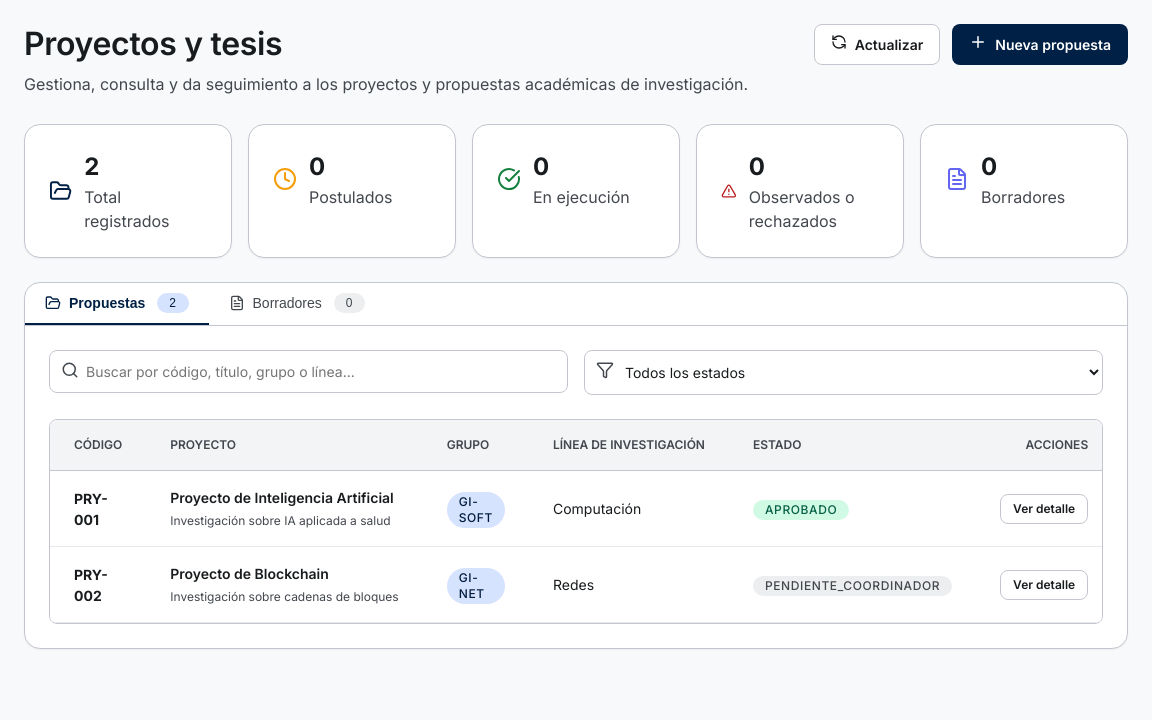
Test: ProjectsList › filters projects by search text
This screenshot has width=1152, height=720.
Check: the text "Proyecto de Inteligencia Artificial" is shown, box left=170, top=487, right=399, bottom=508
Type "Blockchain" into the field with placeholder "Buscar por código, título, grupo o línea..." at (308, 372), box left=49, top=350, right=568, bottom=393
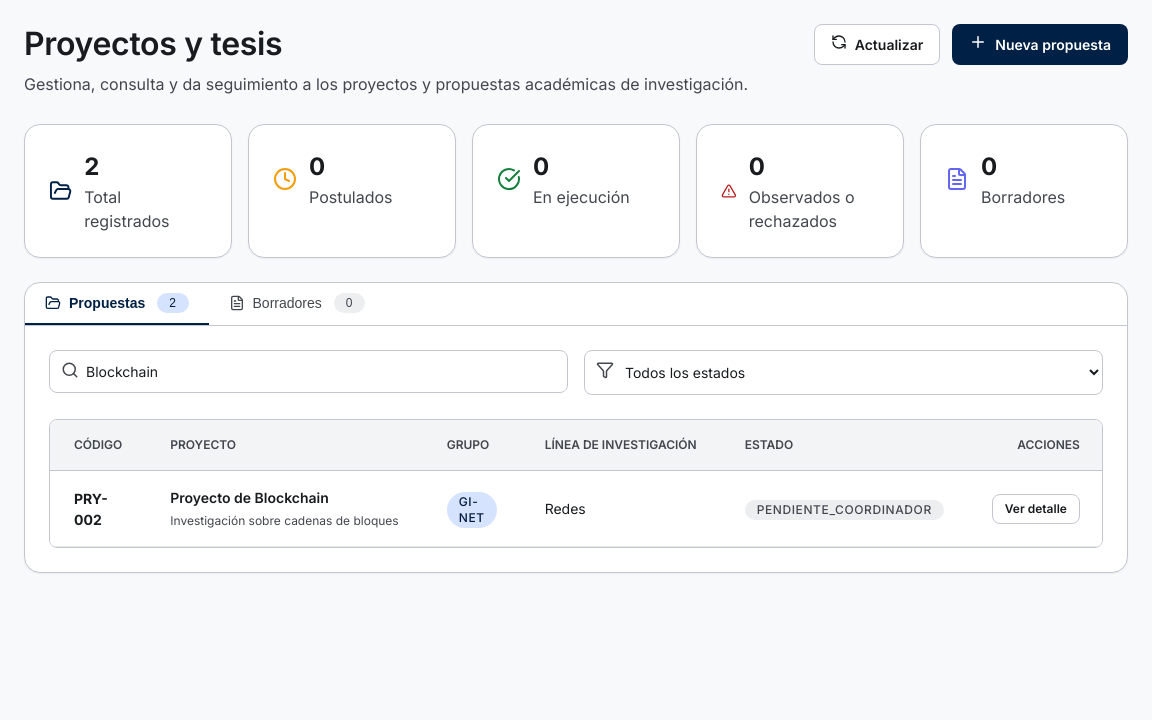
Check: the text "Proyecto de Blockchain" is shown, box left=170, top=489, right=329, bottom=506
Check: the text "Proyecto de Inteligencia Artificial" is gone
